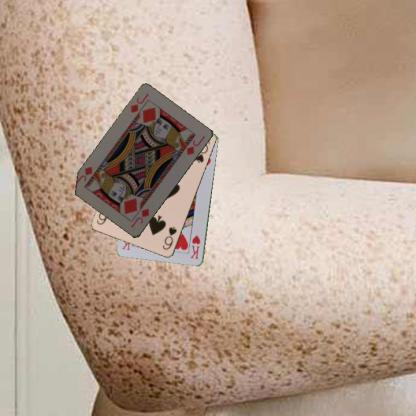6s: (160, 224, 178, 252)
Jd: (128, 206, 151, 229), (128, 91, 150, 114)
Kh: (188, 233, 202, 260)
